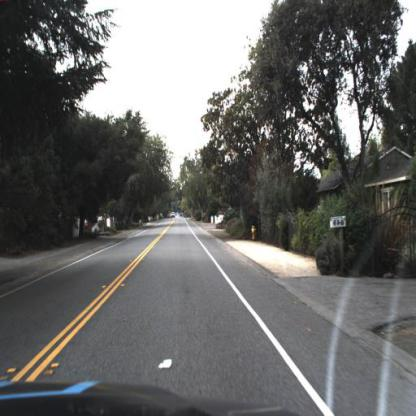car: (172, 213, 176, 219)
